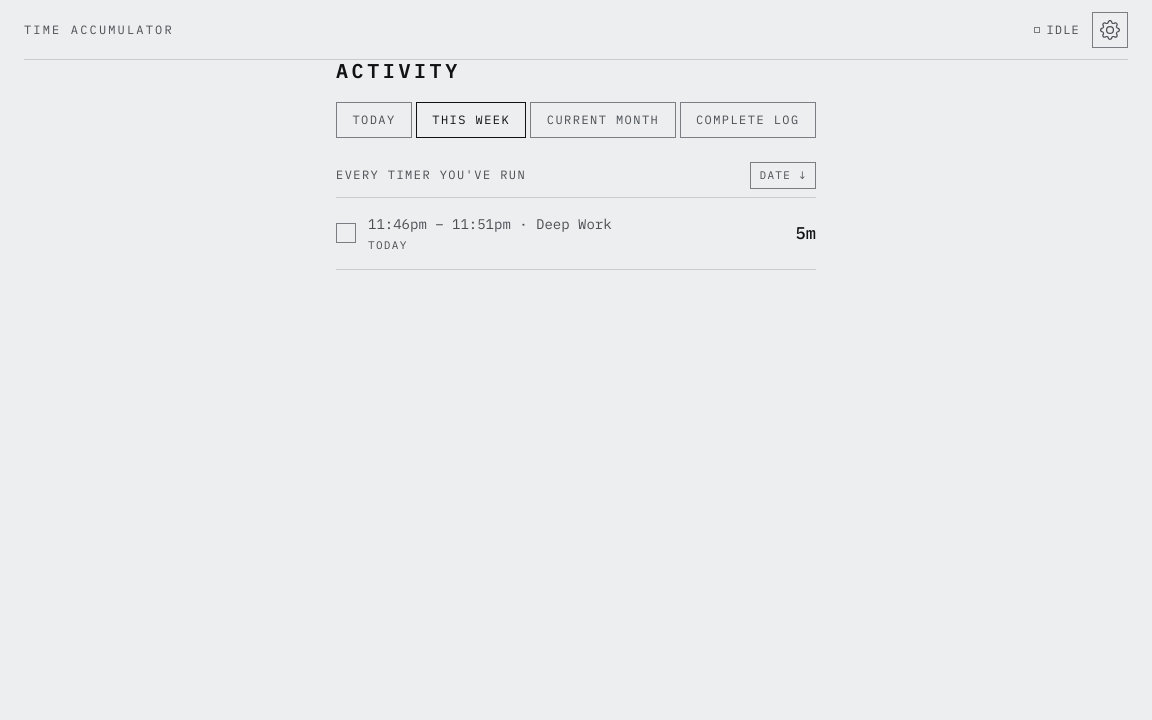
Scenario: selection footer in Activity › shows "{n} selected | Tag pool | Omit" for a selection
Click the button with class "entry-row__checkbox" at (346, 233), box [336, 223, 356, 243]
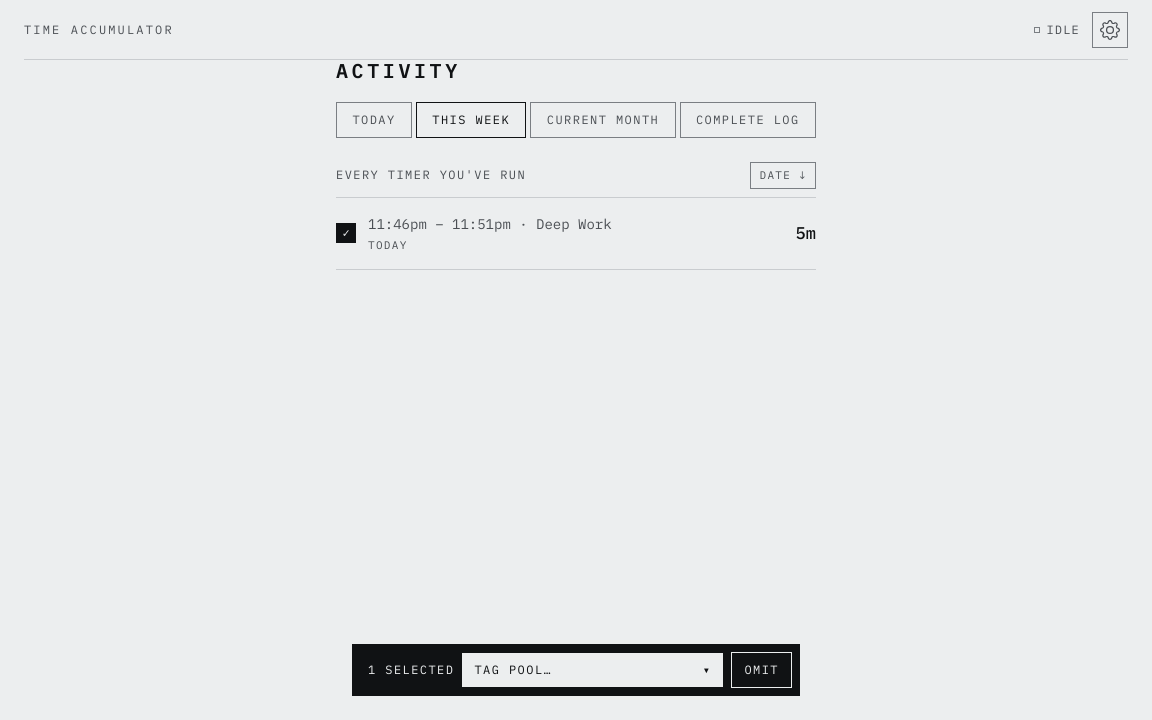
Check: the text with class "bulk-bar__count" reads "1 selected", box [368, 661, 454, 679]
Check: the button with class "bulk-bar__button" reads "Omit", box [731, 652, 792, 688]
